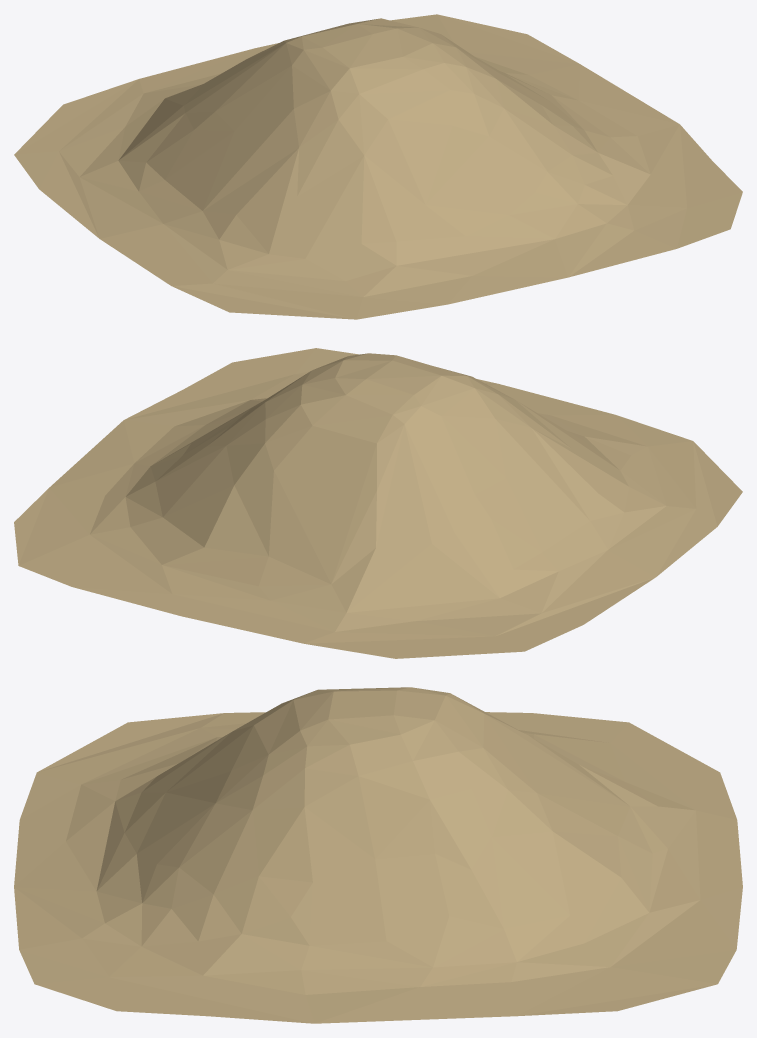
File: SM_Env_Beach_02.glb
3 renders of one model, top to bottom at view 1: azimuth 30°, elevation 25°; view 2: azimuth 150°, elevation 25°; view 3: azimuth 270°, elevation 25°, orthographic. The views are drawn at different scales.
Parts seen in each view (by area): view 1: SM_Env_Beach_02_part00; view 2: SM_Env_Beach_02_part00; view 3: SM_Env_Beach_02_part00.
Part boxes in pixels (<box>): SM_Env_Beach_02_part00: <box>14,14,742,319</box>; SM_Env_Beach_02_part00: <box>14,348,742,658</box>; SM_Env_Beach_02_part00: <box>14,687,742,1023</box>.
Size of the model in its own units: 14.18 by 3.23 by 13.92.
Materials: 1 (1 with a texture image).
